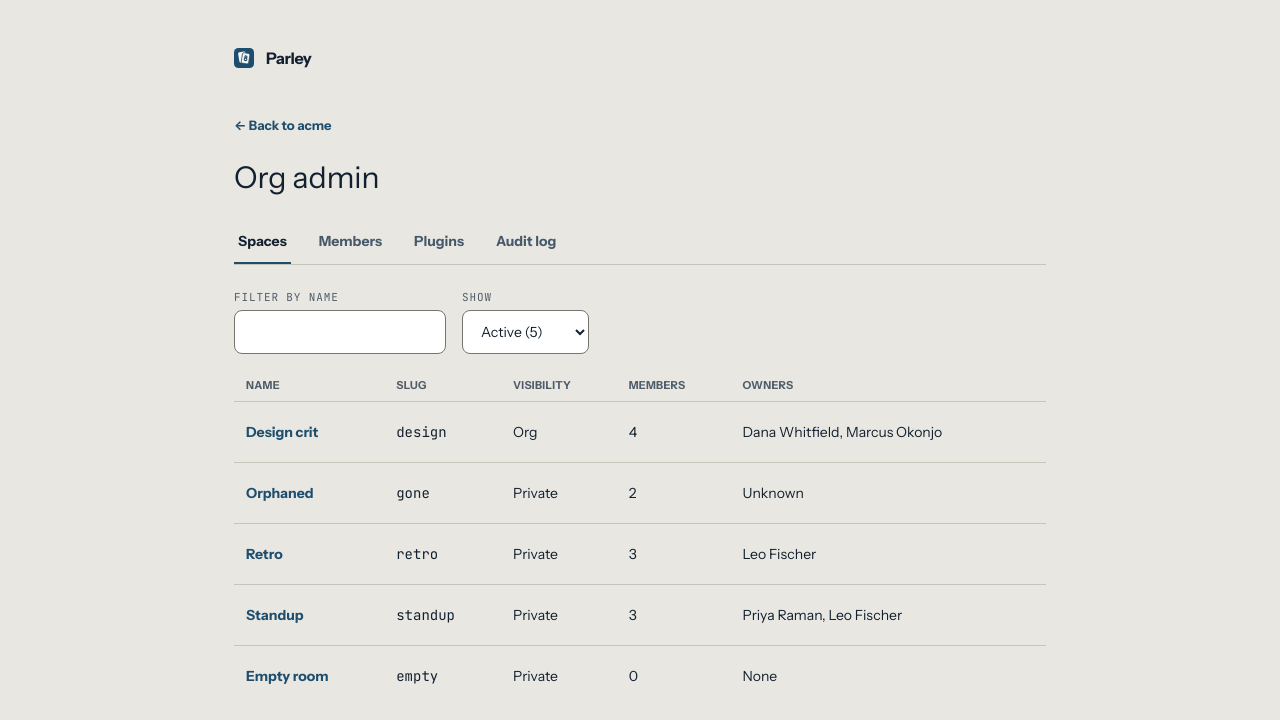
Test: org admin hub › space panel › labels a private space as private
Click the button named "Manage Retro": (268, 554) [246,532,290,576]
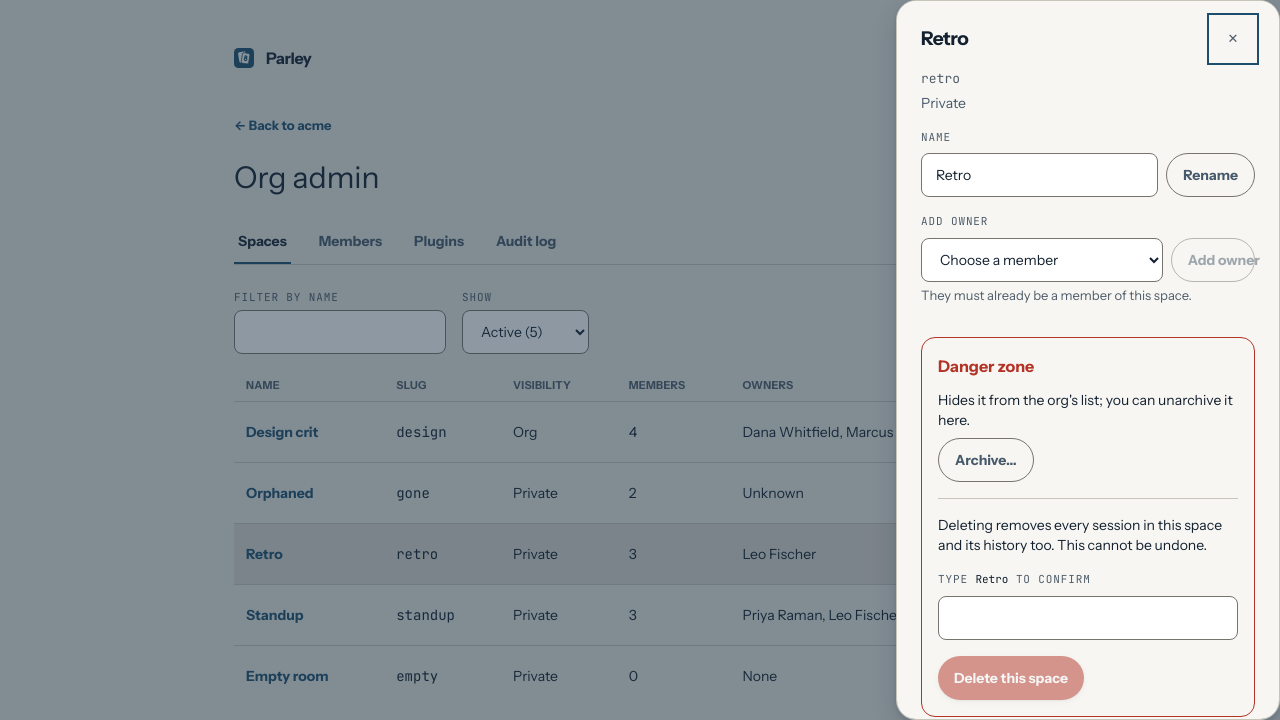
Check: the text "Private" is shown, box [921,94,966,112]
